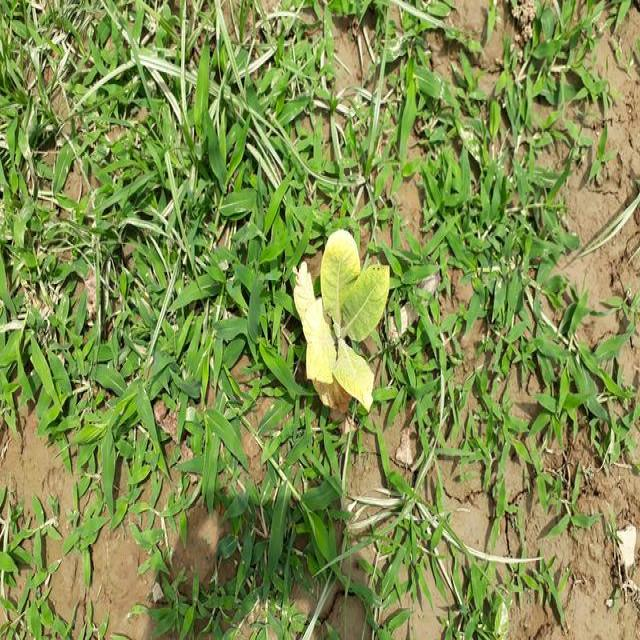crop: (289, 214, 400, 413)
